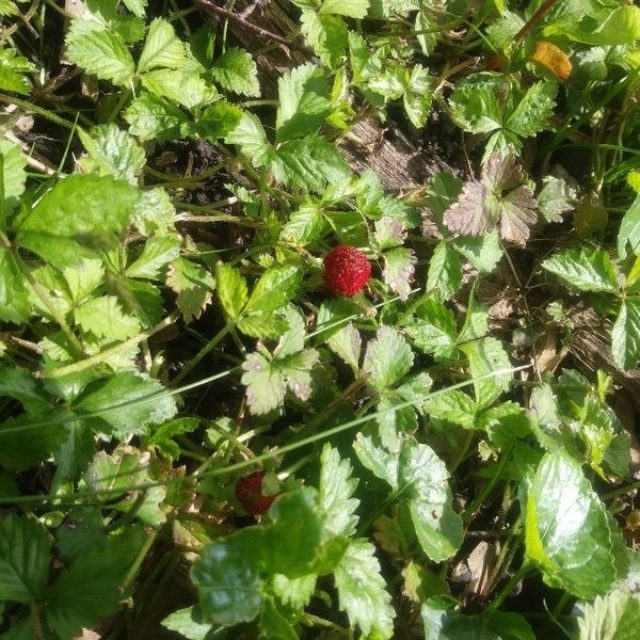obstacle: (50, 119, 492, 563)
